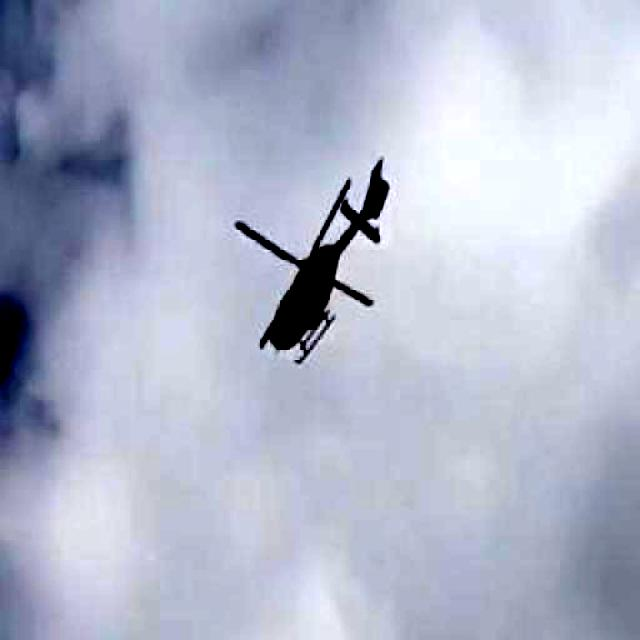drone: (209, 124, 425, 380)
